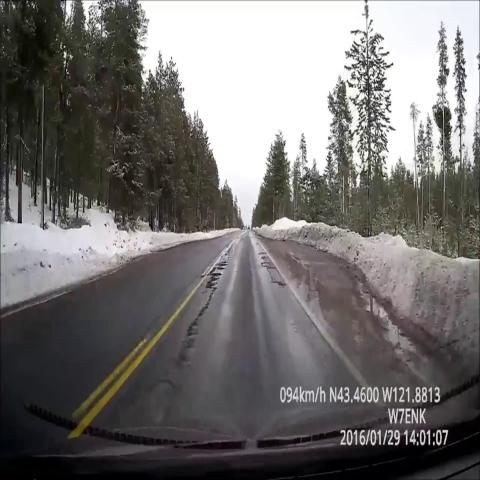pothole: (202, 241, 234, 301), (139, 378, 189, 416), (265, 251, 287, 294), (255, 246, 273, 276)
